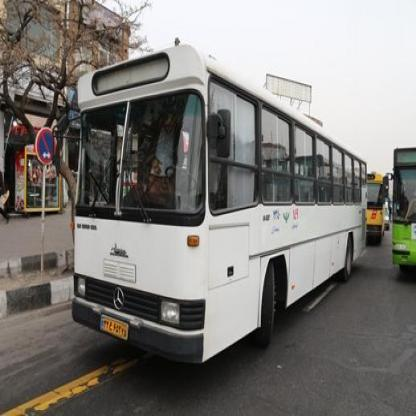Bus: (54, 51, 367, 375), (385, 140, 416, 278), (365, 160, 389, 251)
